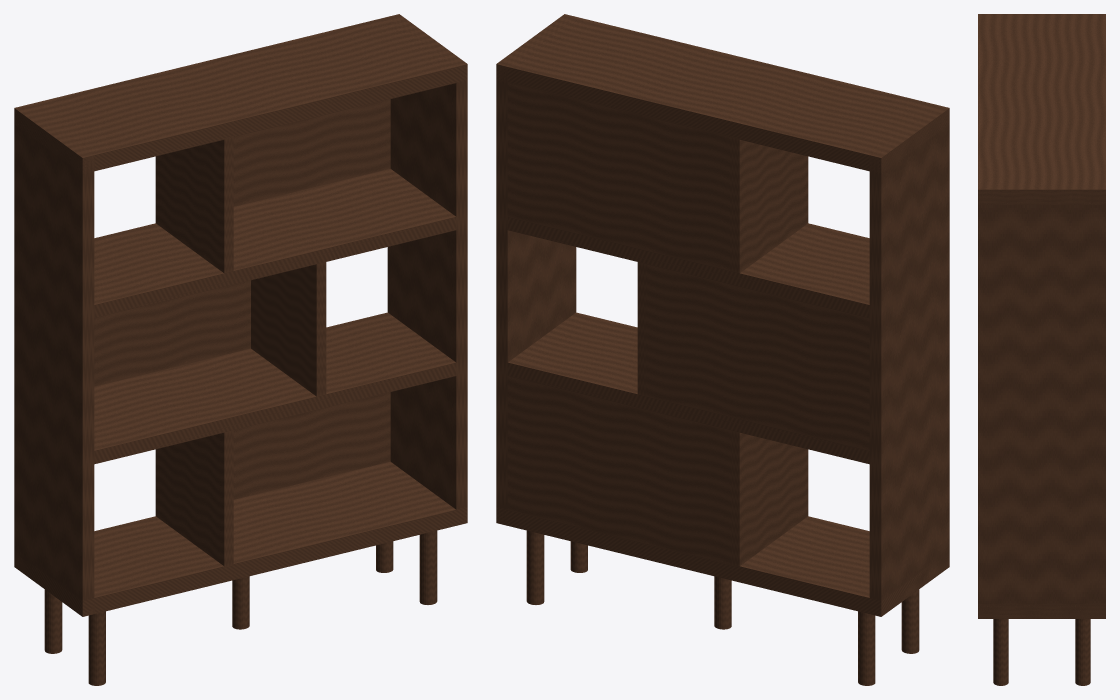
3 renders of one model, left to right at view 1: azimuth 30°, elevation 25°; view 2: azimuth 150°, elevation 25°; view 3: azimuth 270°, elevation 25°, orthographic. The views are drawn at different scales.
Visible parts, largest first — view 1: 3 left_side_panel, 2 top_panel, 1 bottom_panel, 4 right_side_panel, 6 upper_middle_shelf, 5 lower_middle_shelf, 12 bottom_right_back_panel, 10 top_right_back_panel, 11 middle_left_back_panel, 9 bottom_vertical_divider, 7 top_vertical_divider, 8 middle_vertical_divider (+4 smaller); view 2: 3 left_side_panel, 2 top_panel, 10 top_right_back_panel, 12 bottom_right_back_panel, 11 middle_left_back_panel, 1 bottom_panel, 4 right_side_panel, 5 lower_middle_shelf, 6 upper_middle_shelf, 7 top_vertical_divider, 9 bottom_vertical_divider, 16 back_right_leg (+4 smaller); view 3: 4 right_side_panel, 2 top_panel, 1 bottom_panel, 14 front_right_leg, 16 back_right_leg.
Part boxes in pixels (x1,y1,x2,y2): 3 left_side_panel: (14, 106, 94, 616); 2 top_panel: (14, 14, 467, 173); 1 bottom_panel: (14, 461, 467, 616); 4 right_side_panel: (387, 14, 467, 522); 6 upper_middle_shelf: (94, 168, 456, 318); 5 lower_middle_shelf: (94, 312, 456, 464); 12 bottom_right_back_panel: (233, 392, 390, 499); 10 top_right_back_panel: (233, 99, 390, 206); 11 middle_left_back_panel: (94, 280, 250, 386); 9 bottom_vertical_divider: (155, 430, 233, 567); 7 top_vertical_divider: (155, 136, 233, 273); 8 middle_vertical_divider: (251, 262, 326, 396); 3 left_side_panel: (869, 106, 949, 616); 2 top_panel: (496, 14, 949, 173); 10 top_right_back_panel: (507, 82, 730, 270); 12 bottom_right_back_panel: (507, 376, 730, 565); 11 middle_left_back_panel: (646, 264, 869, 450); 1 bottom_panel: (496, 507, 949, 616); 4 right_side_panel: (496, 14, 576, 524); 5 lower_middle_shelf: (507, 312, 869, 464); 6 upper_middle_shelf: (507, 217, 869, 318); 7 top_vertical_divider: (730, 136, 808, 273); 9 bottom_vertical_divider: (730, 430, 808, 566); 16 back_right_leg: (526, 530, 544, 604); 4 right_side_panel: (978, 184, 1105, 618); 2 top_panel: (978, 14, 1105, 204); 1 bottom_panel: (978, 604, 1105, 618); 14 front_right_leg: (993, 619, 1008, 685); 16 back_right_leg: (1075, 619, 1090, 685).
Size of the model in its own units: 0.7464 by 1 by 0.2297.
1 material, 1 textured.
